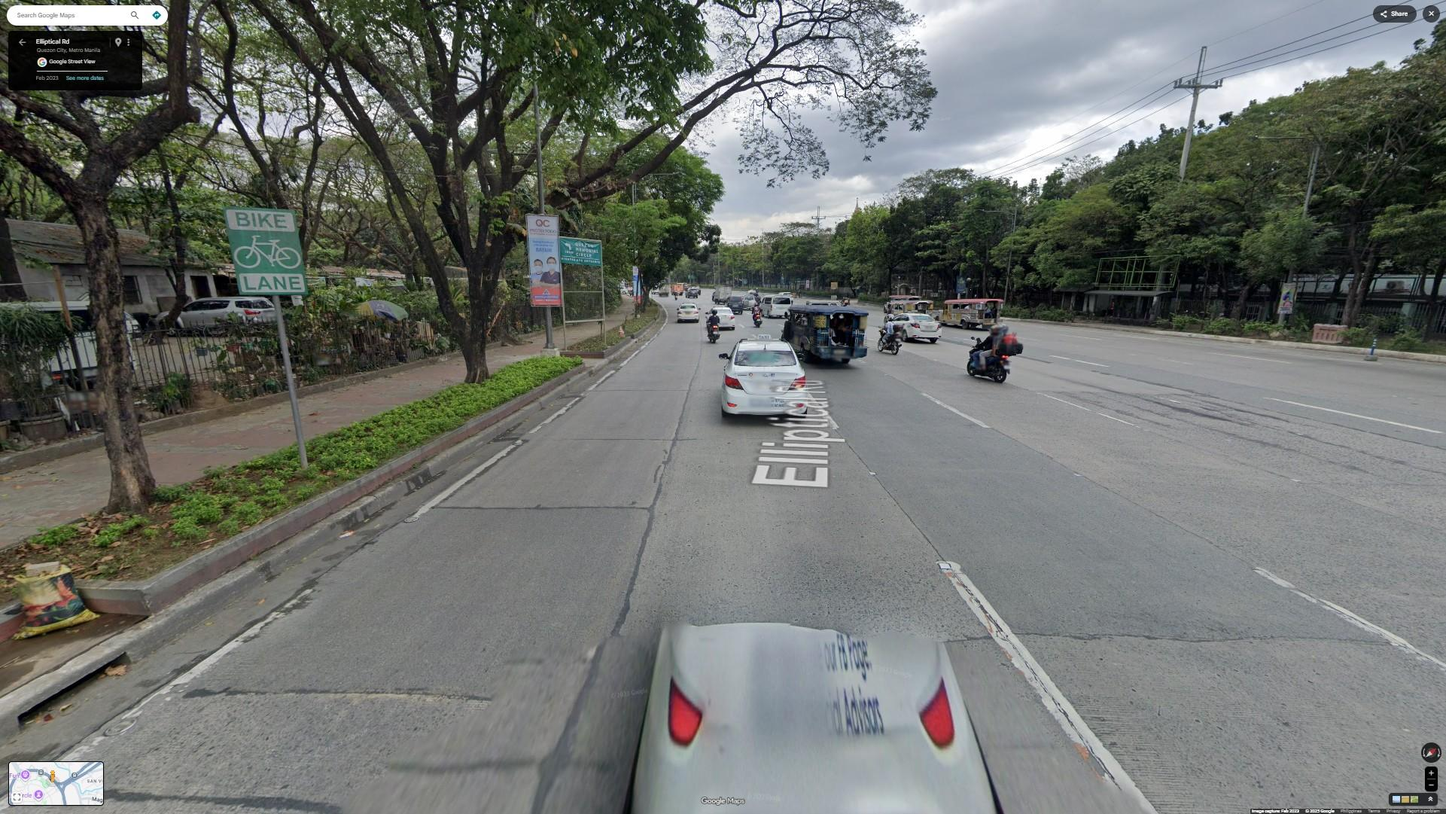pedestrian: (1108, 297, 1116, 318), (798, 288, 802, 299)
